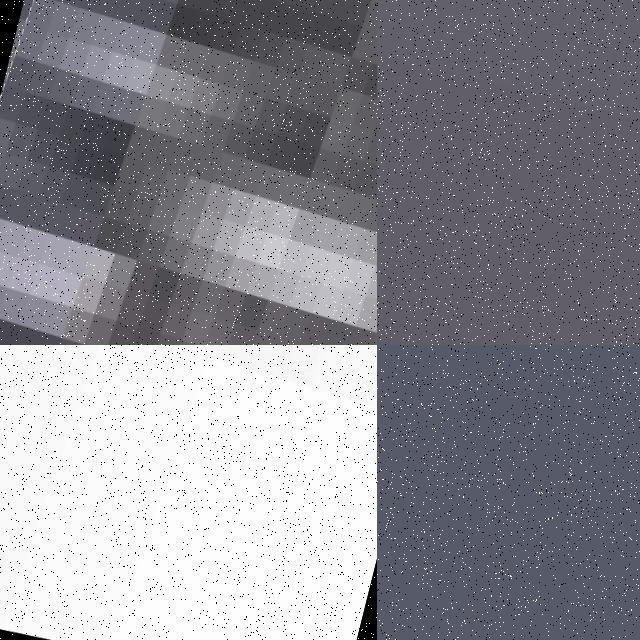drone: (0, 0, 377, 345), (0, 345, 377, 640)
